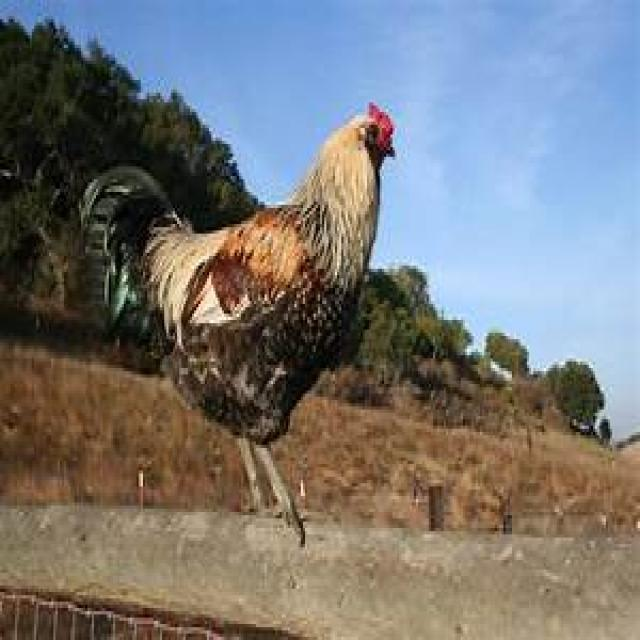hen: (81, 102, 397, 541)
